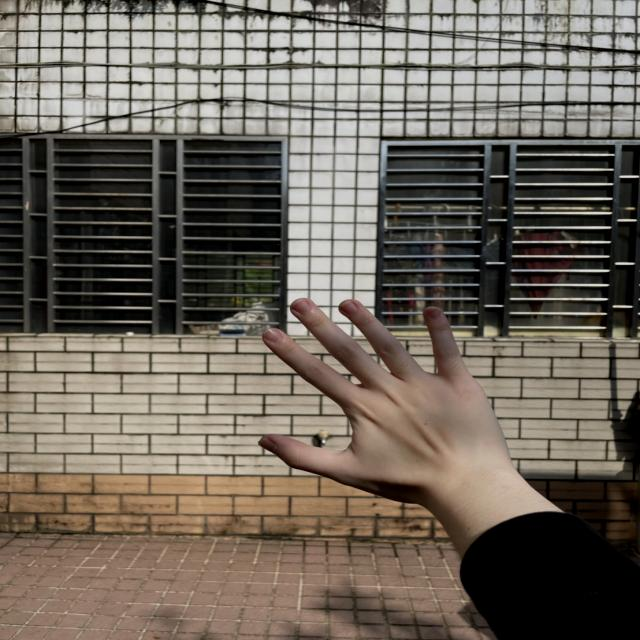no_glove: (250, 284, 508, 510)
